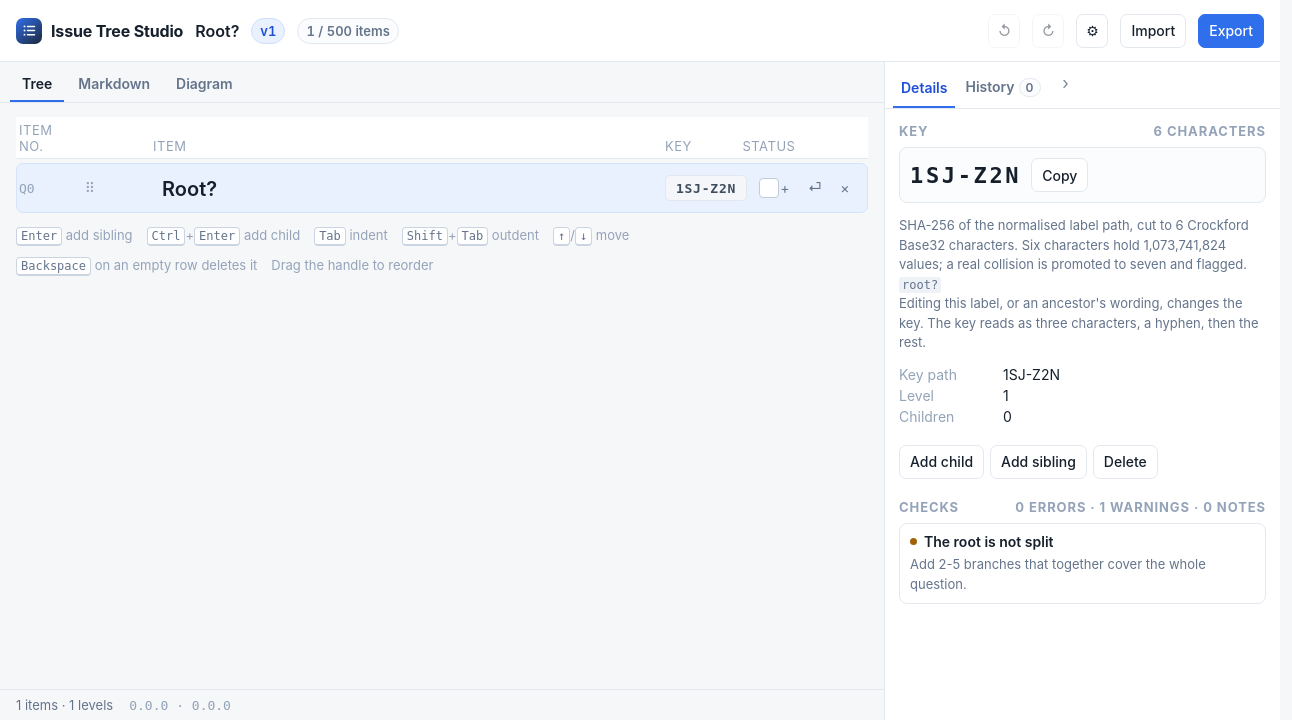
Test: workspace shell › draws a clock on the history button, not a rotation arrow
The width and height of the screenshot is (1292, 720).
Expected: the number of list items is 1, [16,163,868,213]
Click the button named "Collapse panel" at (1066, 83), box [1052,70,1078,96]
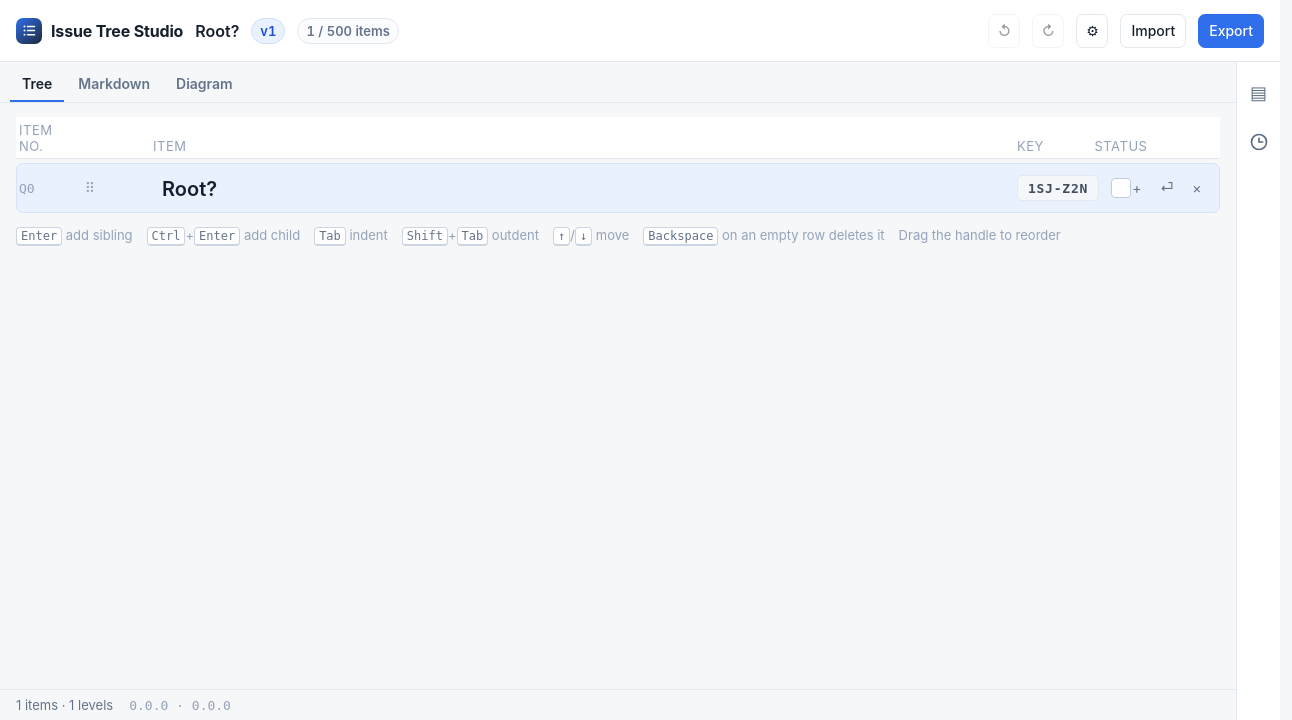
Result: the icon next to "Status" is shown at [1248,132,1268,152]
Result: the button named "Open details" reads "▤" at [1236,70,1280,114]
